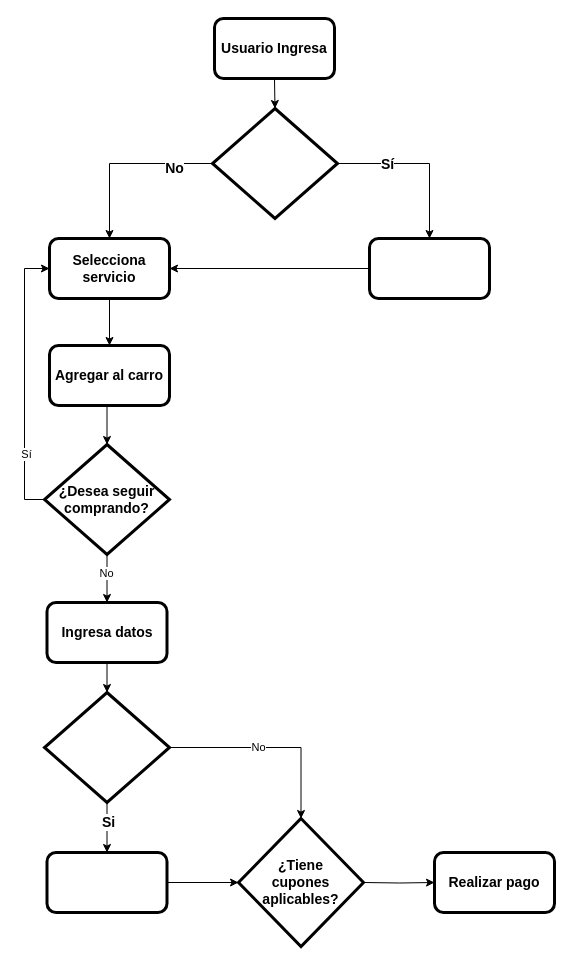
Image size: 573x965. Some labels were removed from this diagram. The shapes that lost their labels are listed below. From the top down, each one's centre as x and y in pixels, then its label:
At [274,163]: "¿Primera vez ingresando?".
At [429,268]: "Se le entrega cupón nuevo cliente".
At [106,747]: "¿Está de cumpleaños?".
At [106,882]: "Se le entrega cupón cumpleaños".
